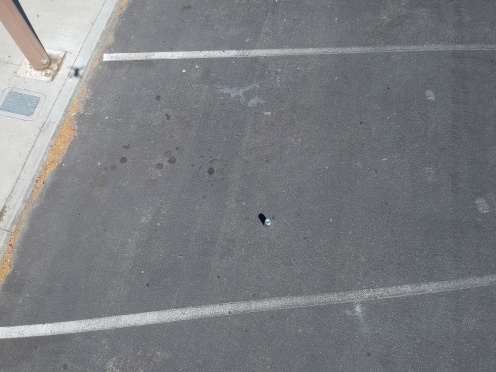can: (260, 215, 273, 227)
